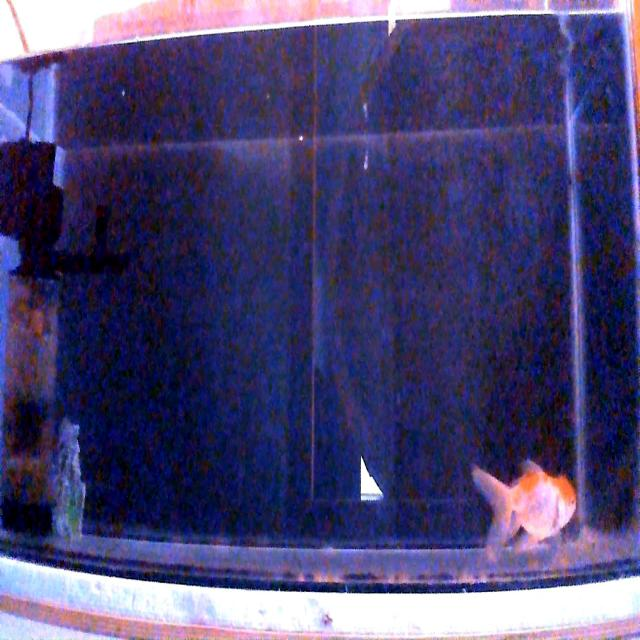fish: (472, 458, 576, 553)
